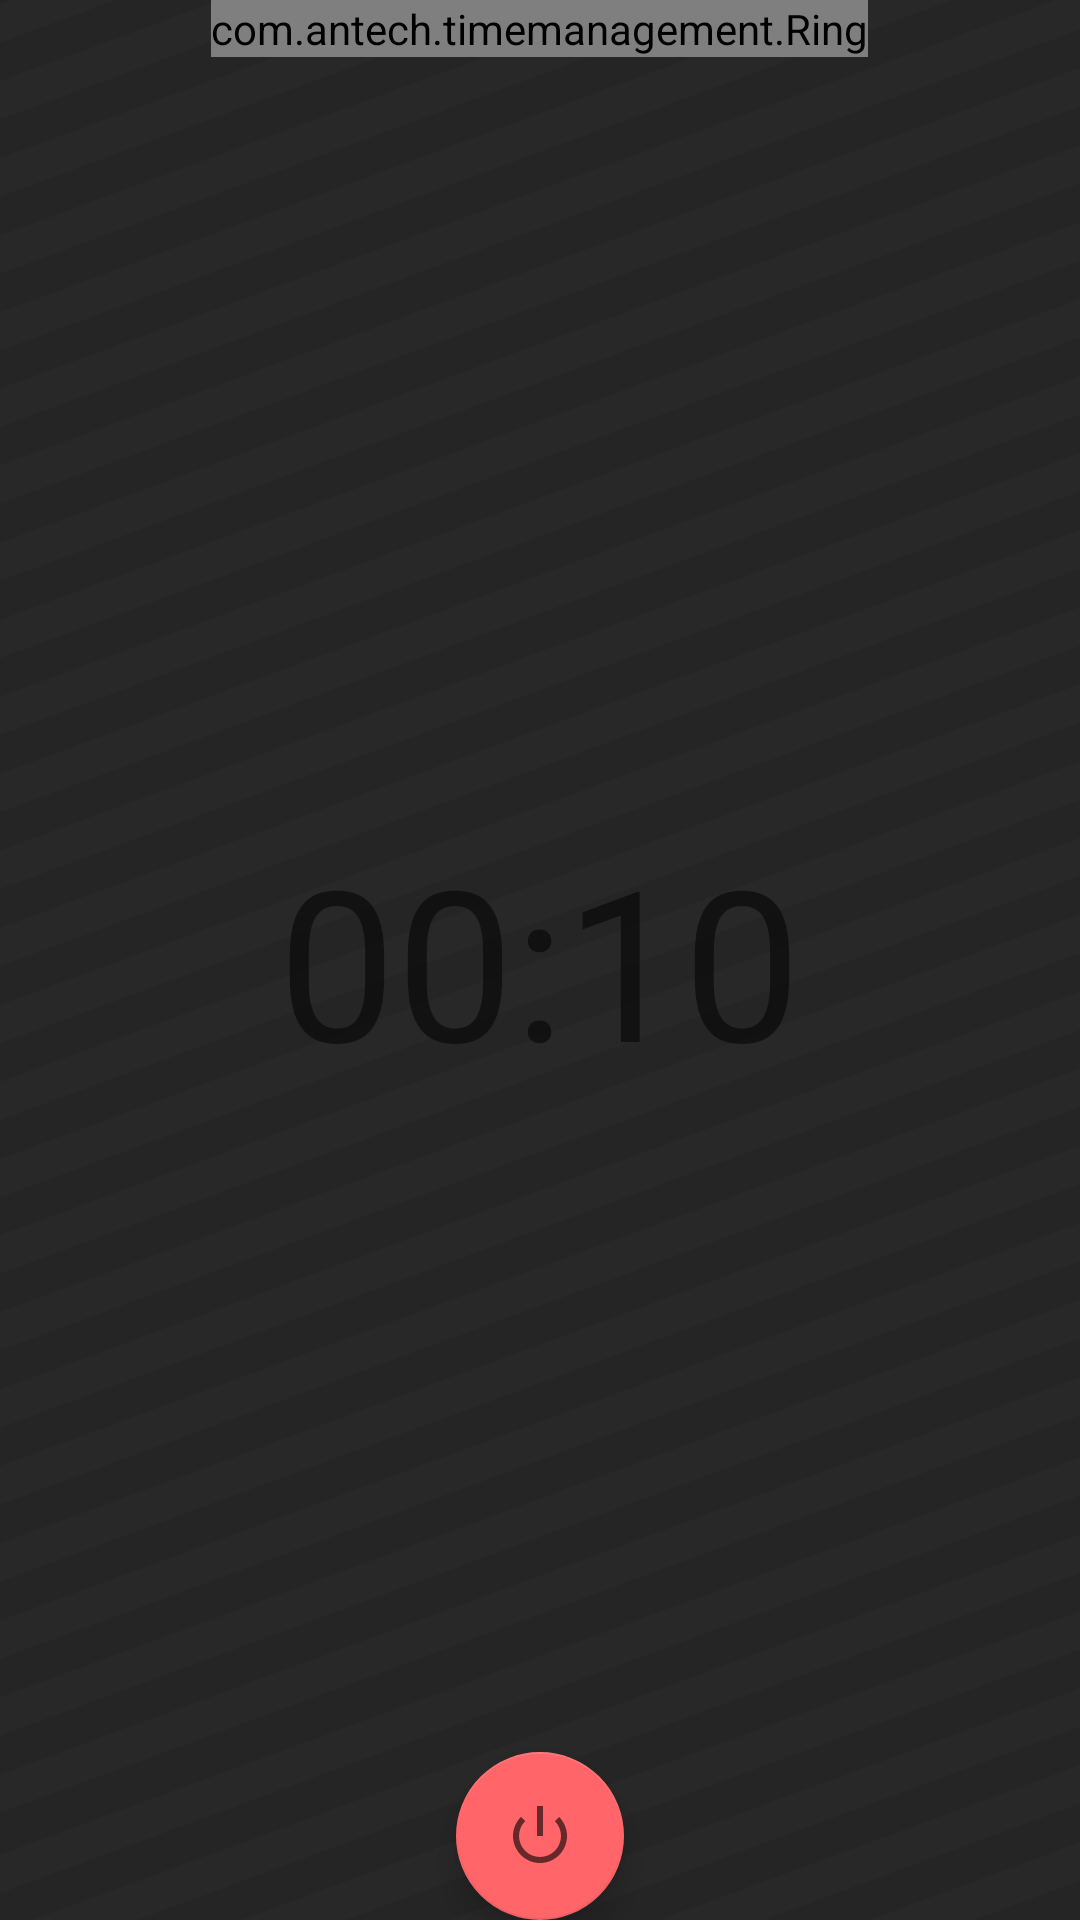

Locate icon controls on the screen. Image size 1080px x 1920px, boxes as bbox(x1, y1, x2, y2).
lock power off: bbox(456, 1752, 624, 1920)
